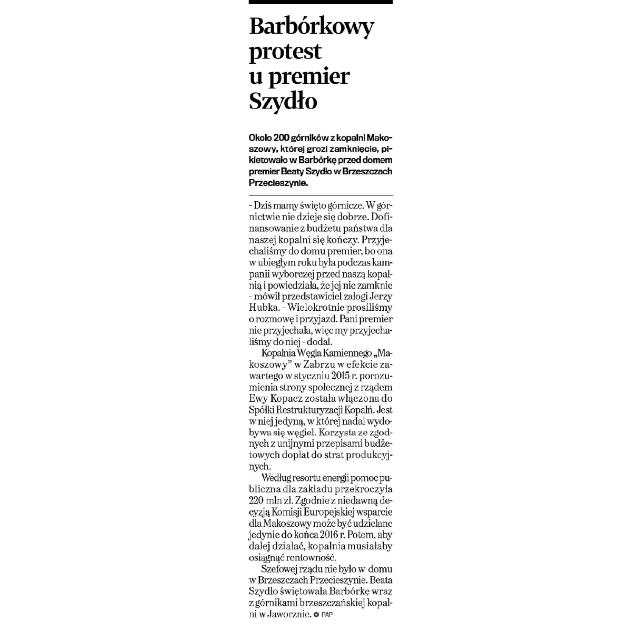body: (244, 198, 398, 624)
lead: (246, 129, 398, 191)
title: (244, 9, 384, 113)
